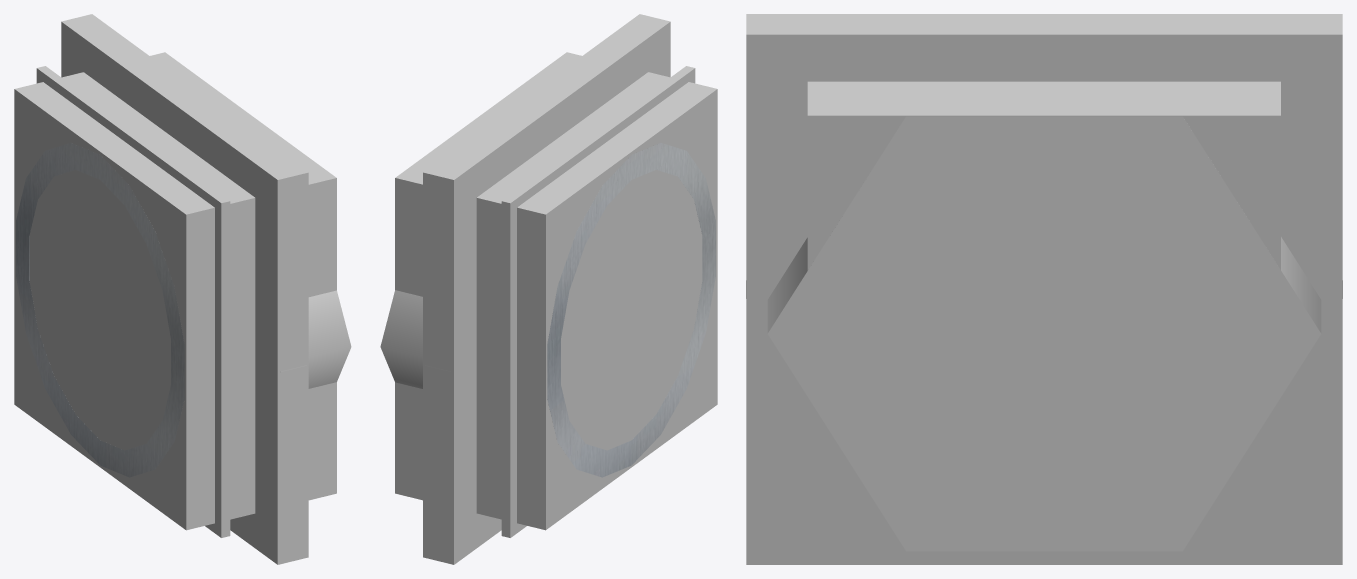
Rendered from rad1_zagl_1_.FBX.
3 renders of one model, left to right at view 1: azimuth 30°, elevation 25°; view 2: azimuth 150°, elevation 25°; view 3: azimuth 270°, elevation 25°, orthographic. The views are drawn at different scales.
Visible parts, largest first — view 1: rad1_zagl_COL001, rad1_zagl, size_1_L_est_001; view 2: rad1_zagl_COL001, rad1_zagl, size_1_L_est_001; view 3: rad1_zagl, rad1_zagl_COL001.
Boxes of the visible parts, x1,y1,x2,y2 form: rad1_zagl_COL001: [14, 14, 336, 564]; rad1_zagl: [16, 143, 351, 477]; size_1_L_est_001: [36, 66, 230, 537]; rad1_zagl_COL001: [395, 14, 717, 564]; rad1_zagl: [380, 143, 715, 477]; size_1_L_est_001: [501, 66, 695, 537]; rad1_zagl: [746, 116, 1342, 551]; rad1_zagl_COL001: [746, 14, 1342, 564].
Bounding box in the file's own units: 0.017 × 0.0414 × 0.0422.
Materials: 3 (2 with a texture image).
